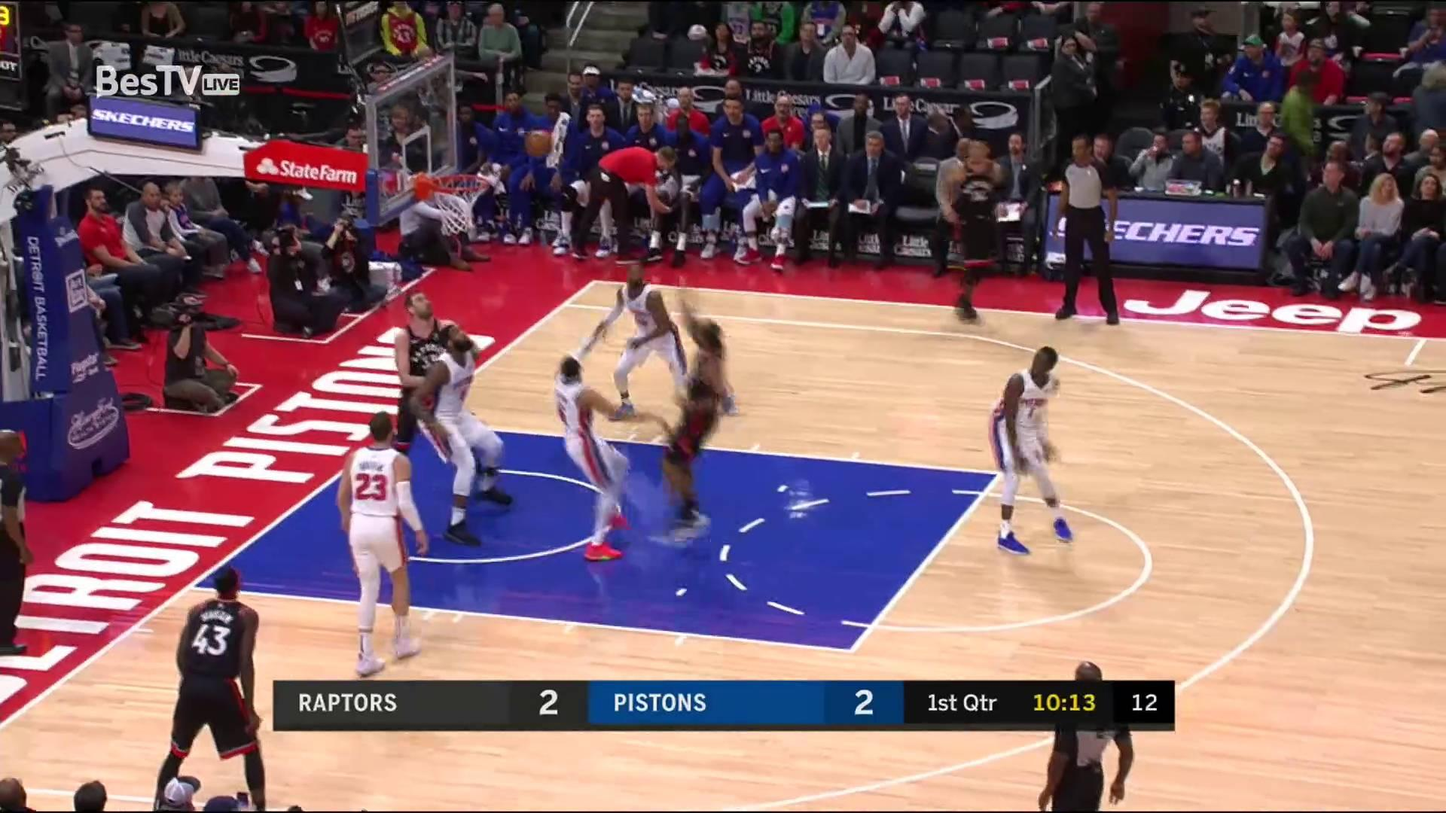basketball: (525, 130, 553, 159)
